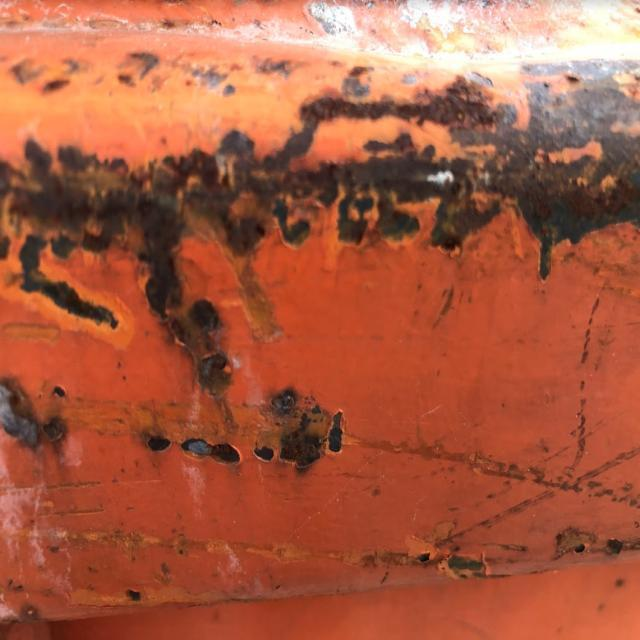Corrosion: (0, 2, 639, 629)
